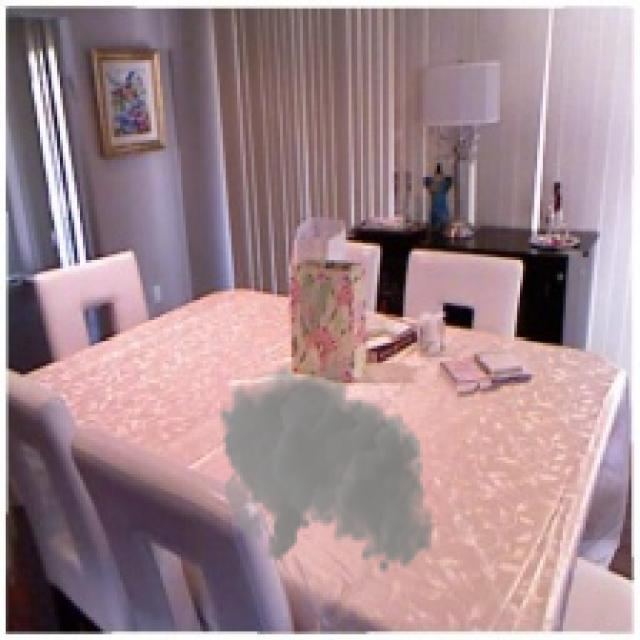smoke: (217, 354, 434, 574)
